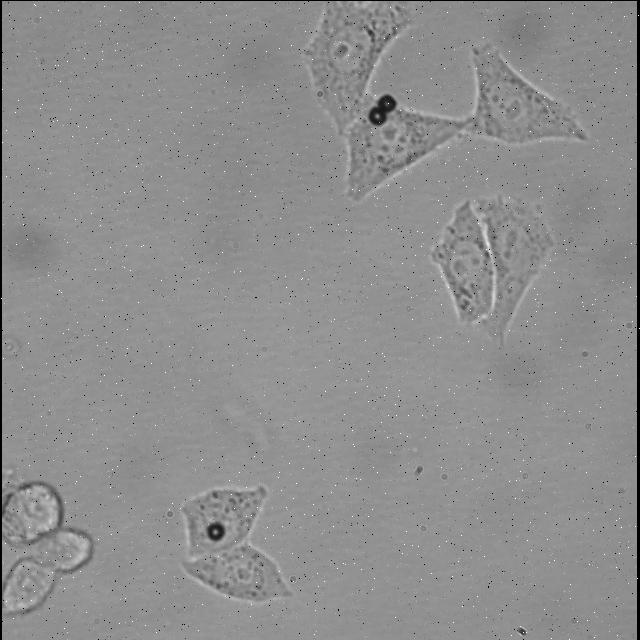microbeads: (366, 104, 388, 128), (376, 92, 399, 111), (206, 522, 228, 540)
